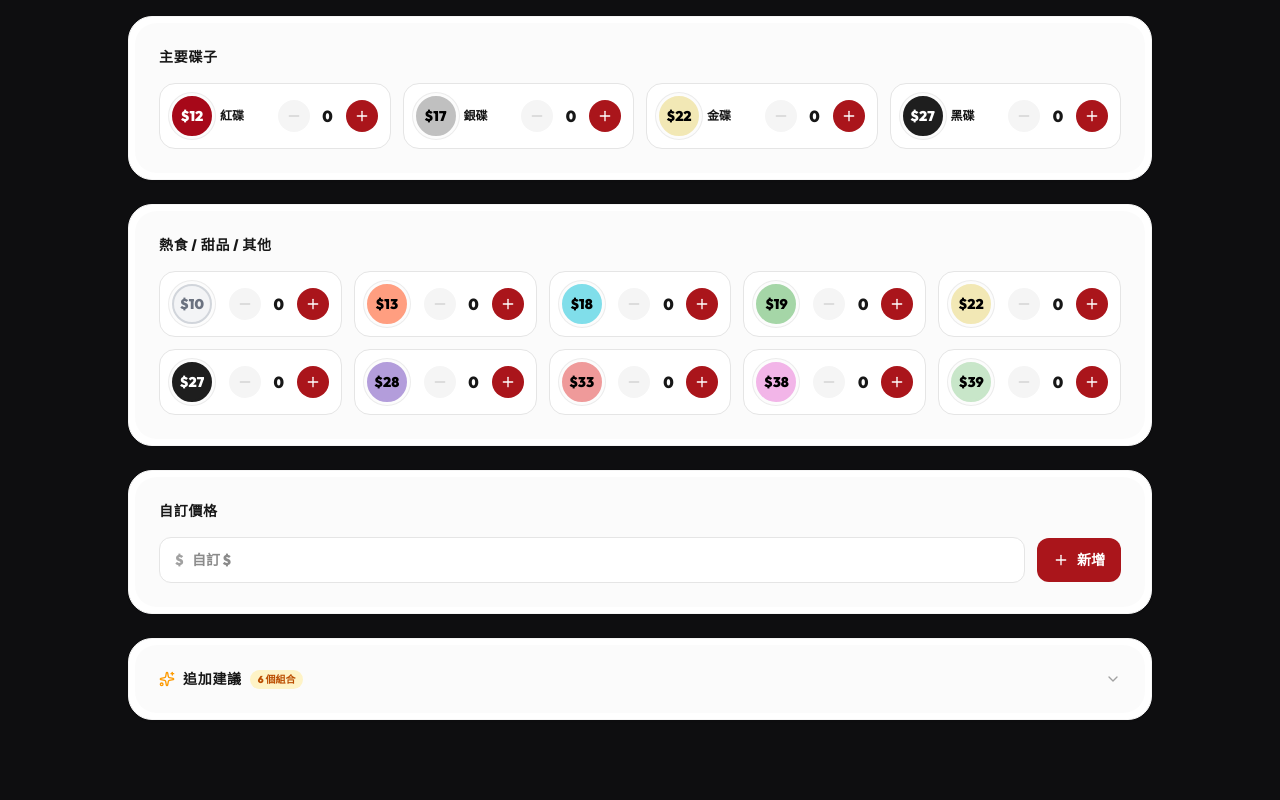
Test: FareCalculator › expands 追加建議 to reveal combination suggestions
(page scrolled)
Click the button "追加建議 6 個組合": (212, 679) x1=159 y1=669 x2=1121 y2=689
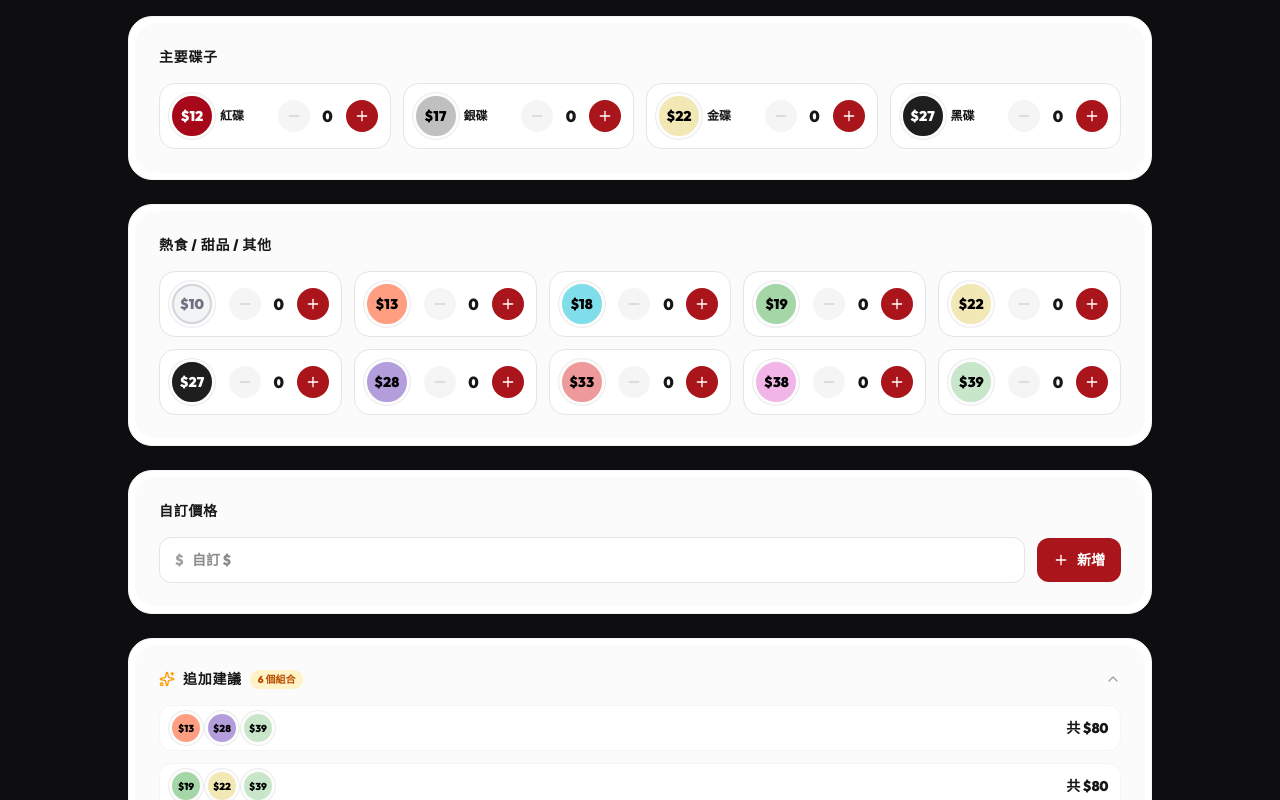
Now the button "追加建議 6 個組合" is expanded, box x1=159 y1=669 x2=1121 y2=689
